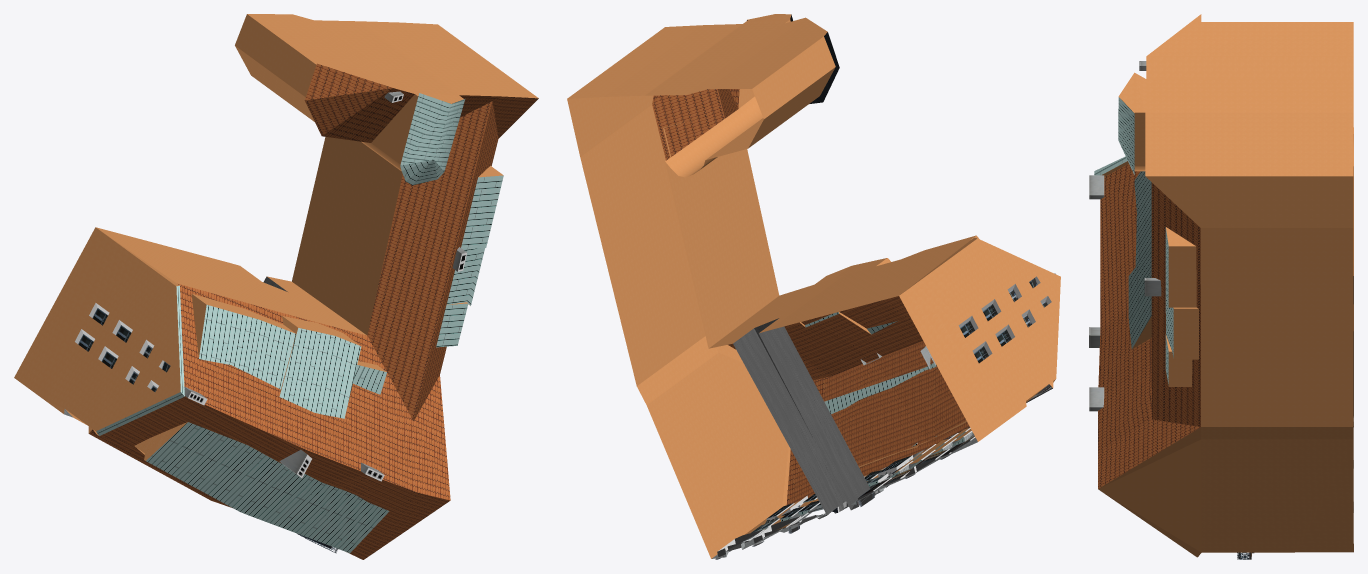
The model's file is Vana-Posti_7-origo.obj.
The picture shows the model from 3 angles, left to right: view 1: azimuth 30°, elevation 25°; view 2: azimuth 150°, elevation 25°; view 3: azimuth 270°, elevation 25°; orthographic projection. The views are drawn at different scales.
Visible parts, largest first — view 1: Vana_Posti_7; view 2: Vana_Posti_7; view 3: Vana_Posti_7.
Part boxes in pixels (left/top/right/bottom): Vana_Posti_7: left=14, top=14, right=538, bottom=559; Vana_Posti_7: left=567, top=14, right=1060, bottom=559; Vana_Posti_7: left=1089, top=14, right=1353, bottom=559.
Size of the model in its own units: 39.12 by 45 by 20.49.
